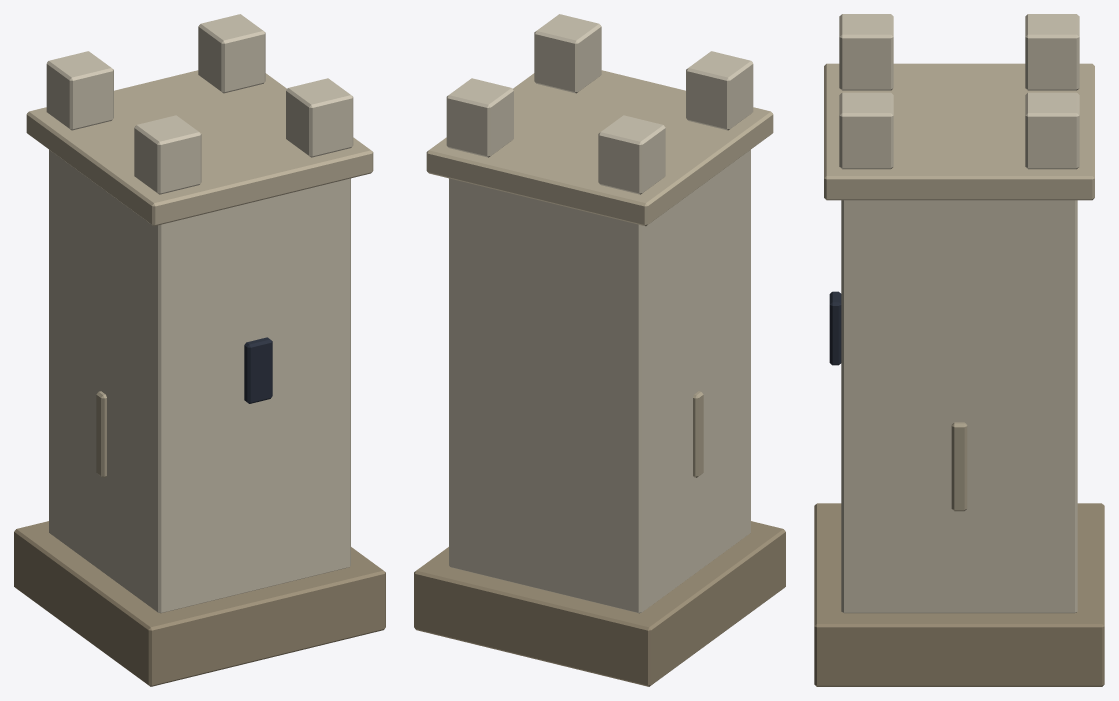
Rendered from european-post.glb.
The picture shows the model from 3 angles, left to right: view 1: azimuth 30°, elevation 25°; view 2: azimuth 150°, elevation 25°; view 3: azimuth 270°, elevation 25°; orthographic projection. The views are drawn at different scales.
Parts seen in each view (by area): view 1: body; view 2: body; view 3: body.
Boxes of the visible parts, box(x1,y1,x2,y2) form: body: box(14, 14, 385, 686); body: box(414, 14, 785, 686); body: box(814, 14, 1104, 686).
Bounding box in the file's own units: 1.5 × 3.21 × 1.5.
